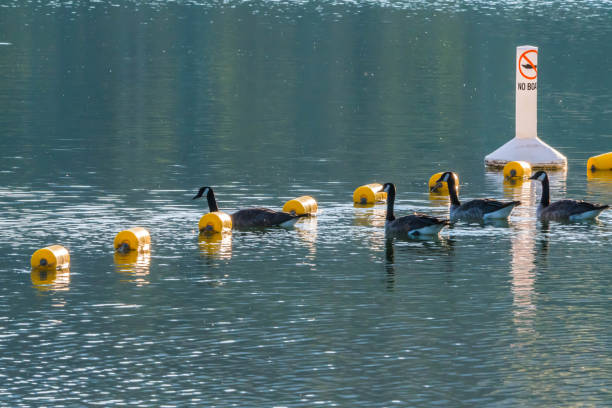goose: (190, 184, 310, 234), (433, 170, 524, 224), (526, 168, 610, 224), (375, 182, 452, 234)
